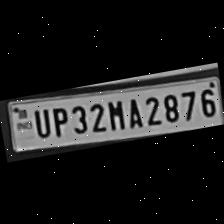2: (138, 91, 162, 128), (84, 98, 107, 134)
3: (66, 100, 89, 136)
6: (194, 82, 217, 119)
7: (176, 85, 200, 122)
8: (158, 88, 180, 124)
A: (120, 94, 144, 130)
M: (103, 95, 127, 132)
P: (46, 103, 70, 138)
U: (28, 105, 52, 140)
